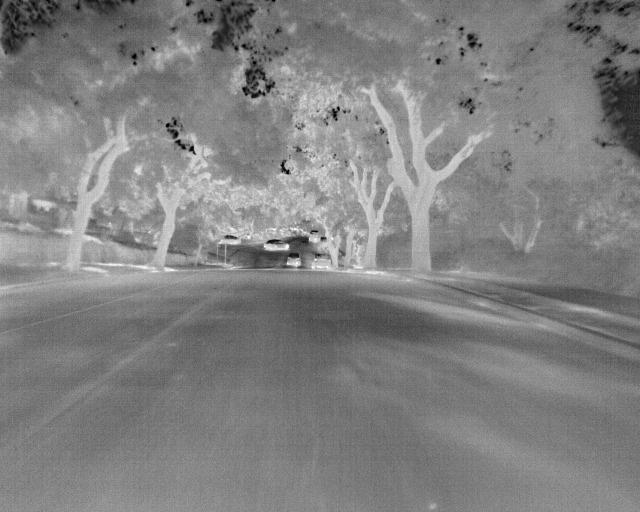car: (264, 238, 291, 251), (313, 254, 332, 271), (284, 253, 302, 268), (223, 234, 242, 247), (307, 229, 321, 242)
